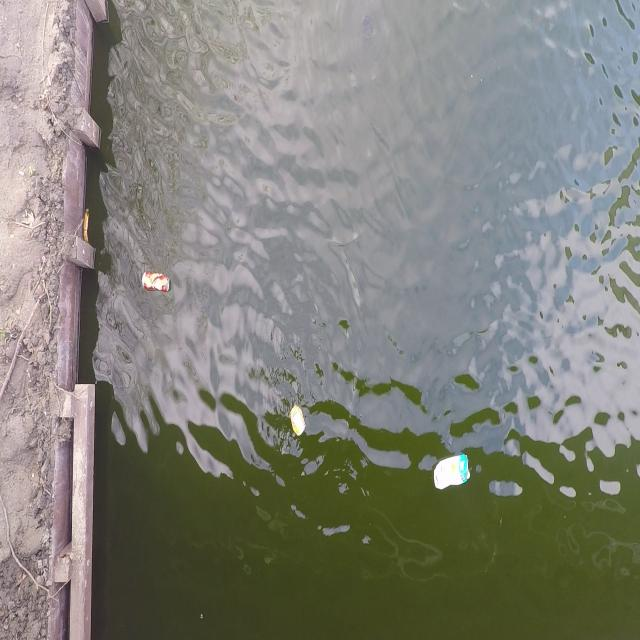Non plastique: (428, 448, 475, 496), (138, 265, 174, 302), (287, 400, 310, 440)
